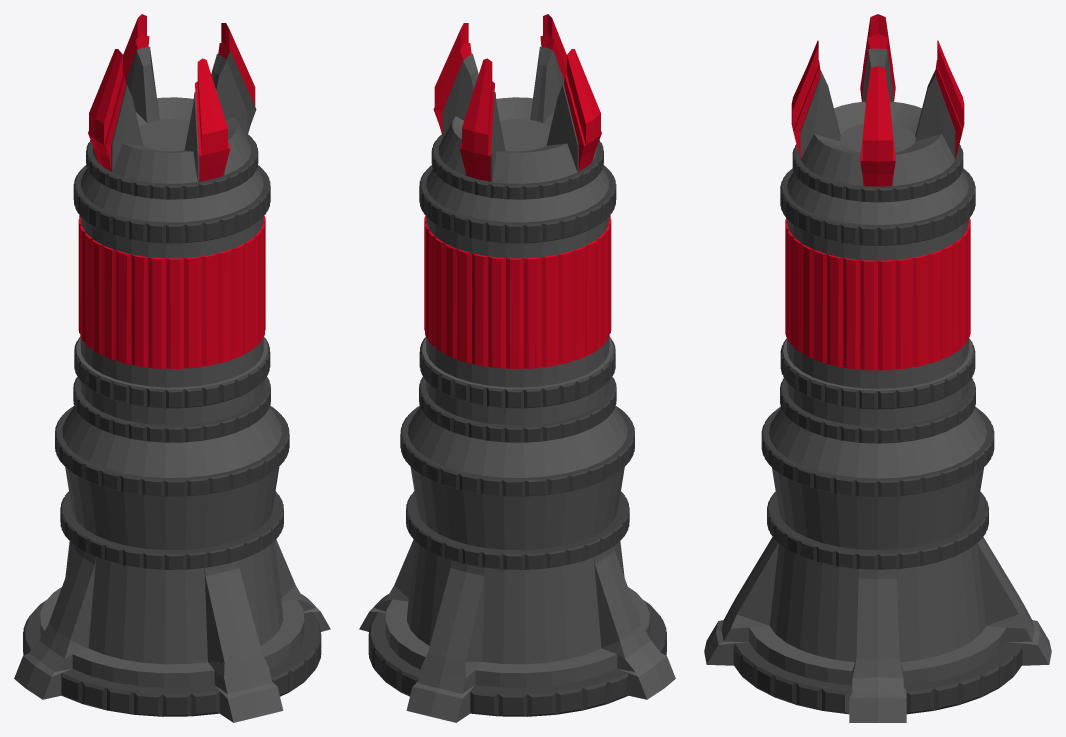
File: BlockTowerUpgrade1.fbx
3 views of the same model, side by side, from view 1: azimuth 30°, elevation 25°; view 2: azimuth 150°, elevation 25°; view 3: azimuth 270°, elevation 25° (orthographic).
Visible parts, largest first — view 1: Block Tower; view 2: Block Tower; view 3: Block Tower.
Part boxes in pixels (x1=…): Block Tower: x1=14, y1=14, x2=330, y2=722; Block Tower: x1=359, y1=14, x2=675, y2=722; Block Tower: x1=704, y1=14, x2=1051, y2=722.
Size of the model in its own units: 592 by 1194 by 613.
